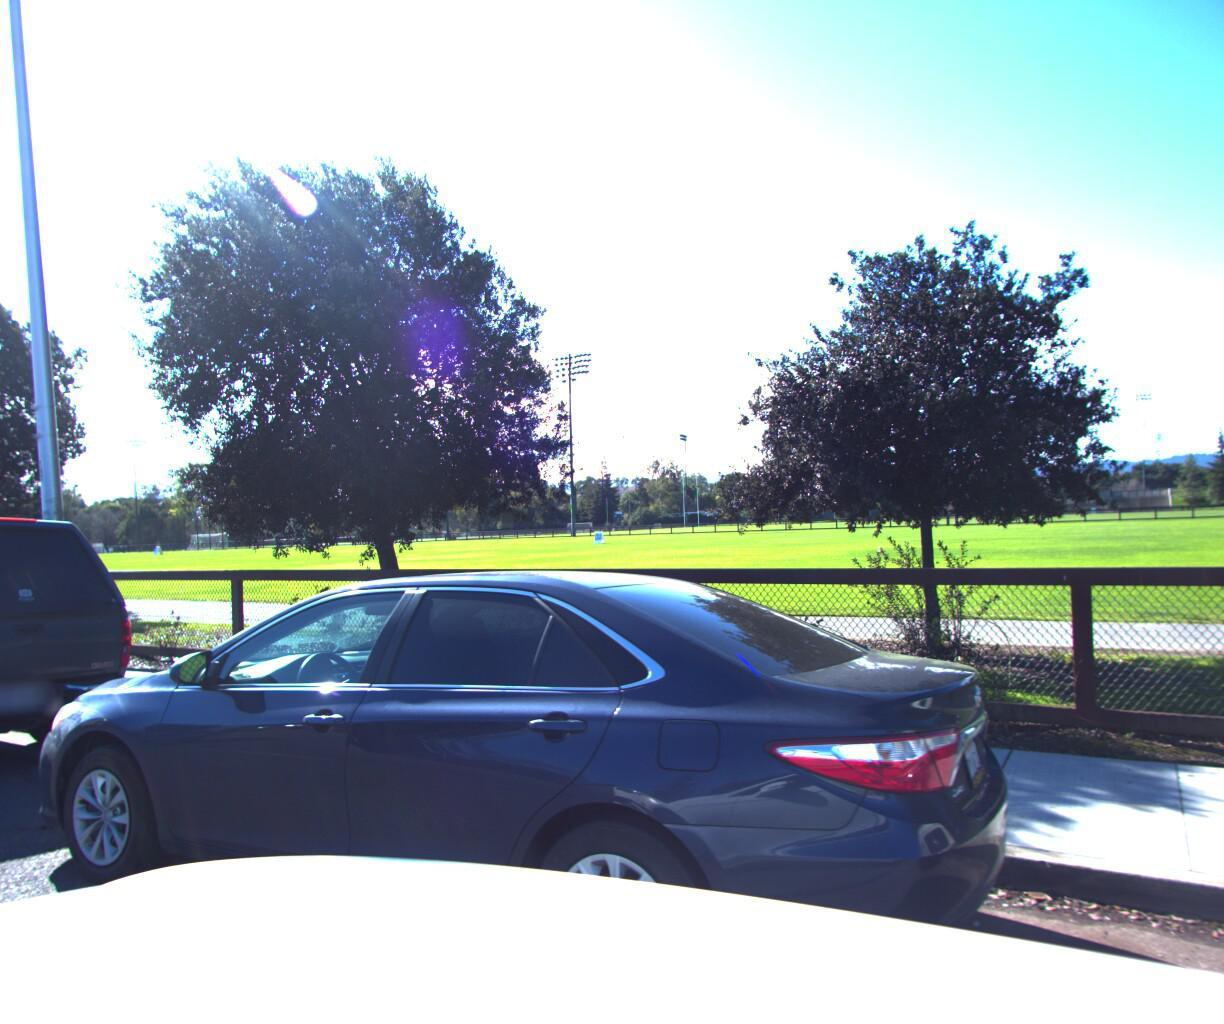car: (0, 539, 1031, 1024), (0, 500, 166, 816)
